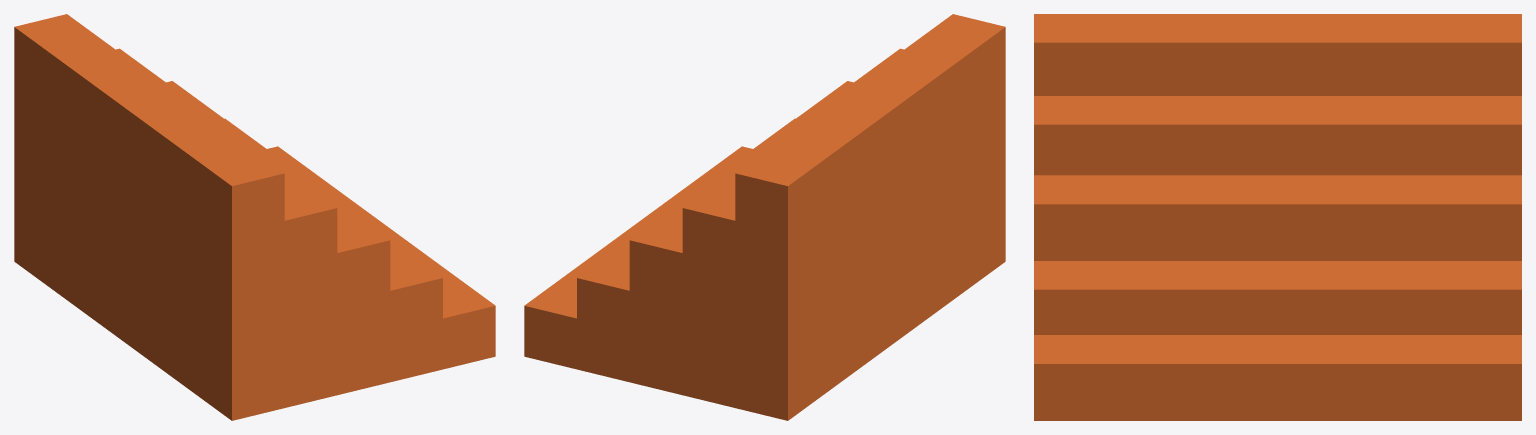
File: stair.fbx
3 views of the same model, side by side, from view 1: azimuth 30°, elevation 25°; view 2: azimuth 150°, elevation 25°; view 3: azimuth 270°, elevation 25° (orthographic). The views are drawn at different scales.
Visible parts, largest first — view 1: stairs; view 2: stairs; view 3: stairs.
Part boxes in pixels (x1,y1,x2,y2): stairs: (14, 14, 495, 420); stairs: (524, 14, 1005, 420); stairs: (1034, 14, 1521, 420).
Size of the model in its own units: 619 by 526 by 885.
